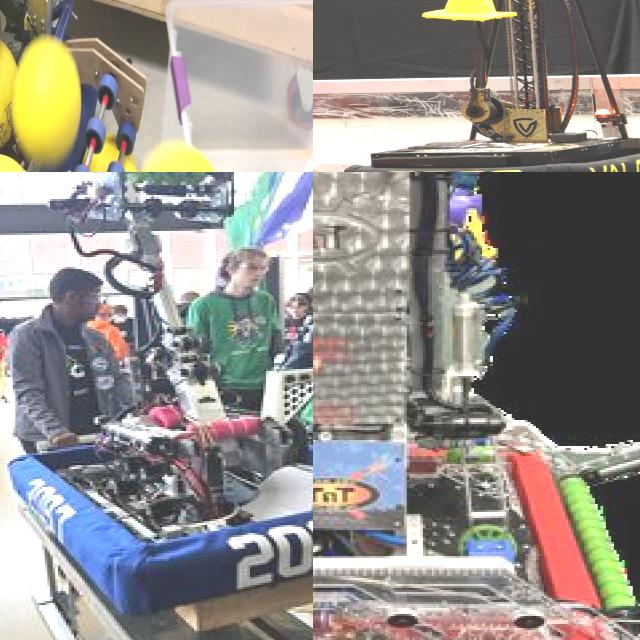FRC-Robots: (313, 172, 640, 640), (0, 191, 313, 591), (313, 0, 640, 172), (0, 0, 313, 172)
